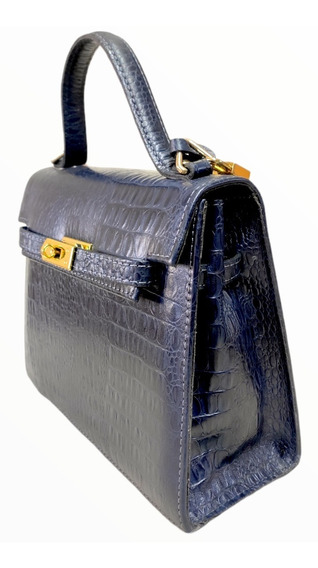cartera: (18, 28, 304, 534)
